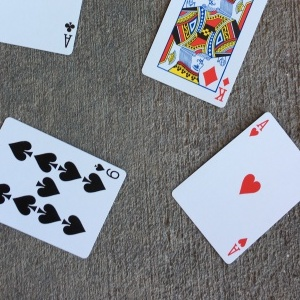card: (174, 109, 299, 267)
